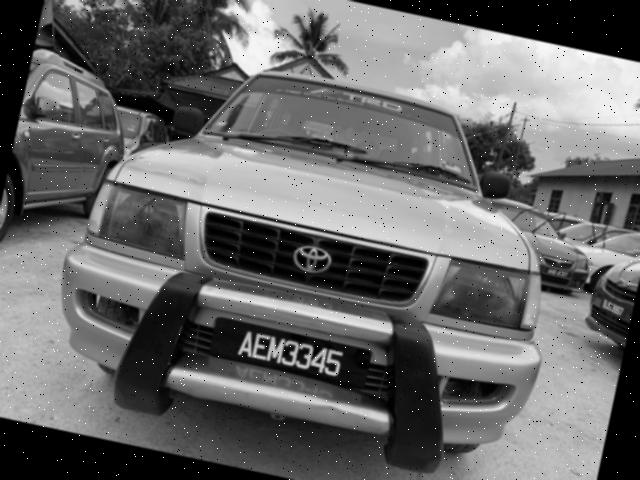License_Plate: (212, 319, 365, 392), (596, 294, 631, 326), (544, 264, 574, 284)
car: (38, 34, 589, 480), (461, 157, 611, 307), (582, 231, 640, 352)
